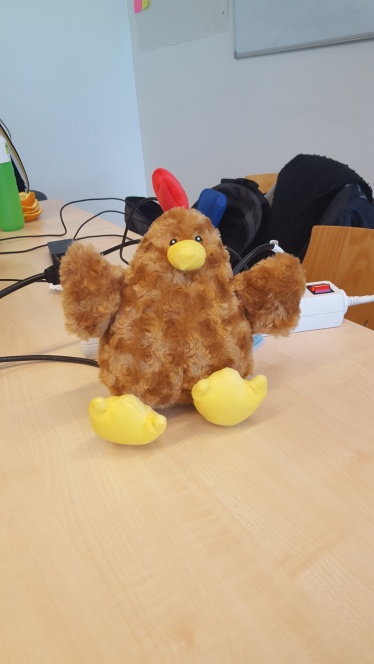chicken_front: (57, 167, 305, 445)
